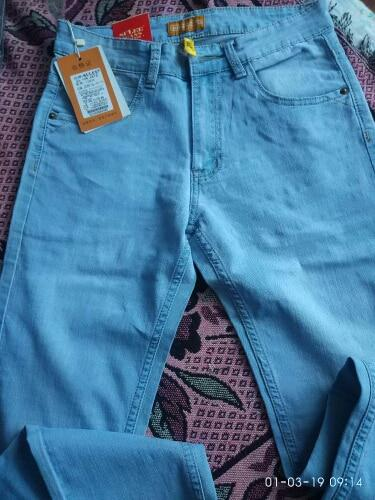jeans: (18, 9, 375, 485)
